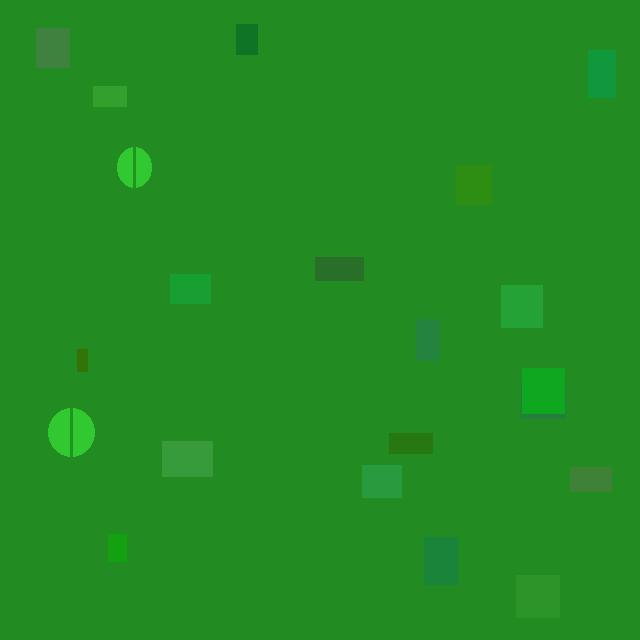healthy_crop: (48, 408, 94, 456), (117, 146, 151, 187)
